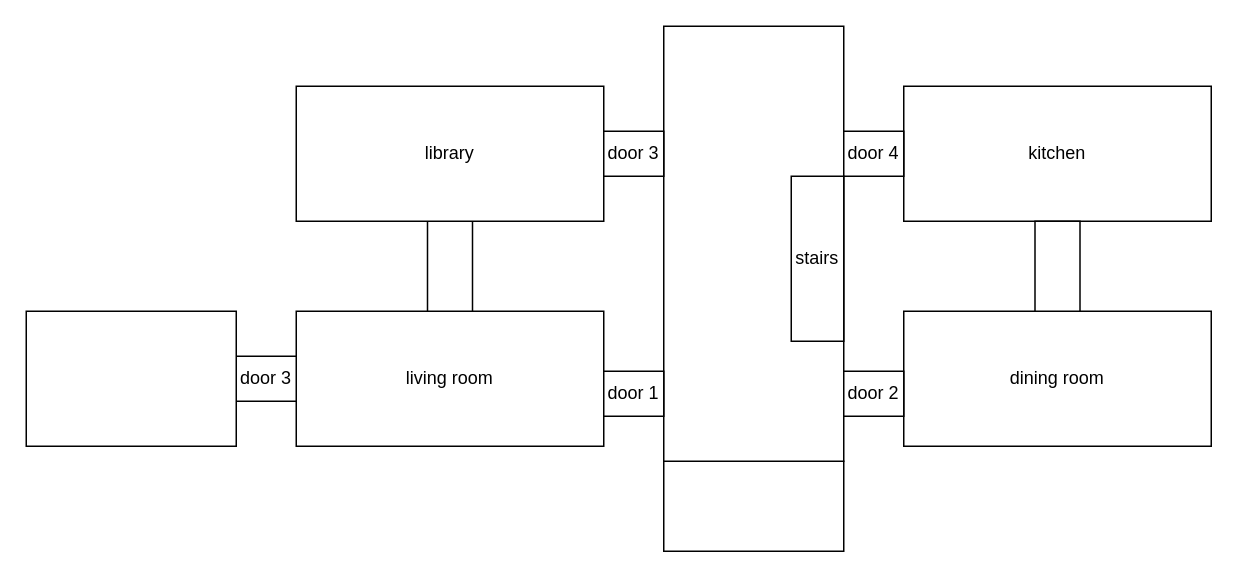
Some shapes in this 1238 by 578 pixel diagram are drawn without their labels. Here are the shapes that lost their labels. From the top down, the box of each, then its label:
(662, 25, 844, 461): hallway
(25, 310, 236, 446): bathroom
(662, 460, 844, 551): foyer
